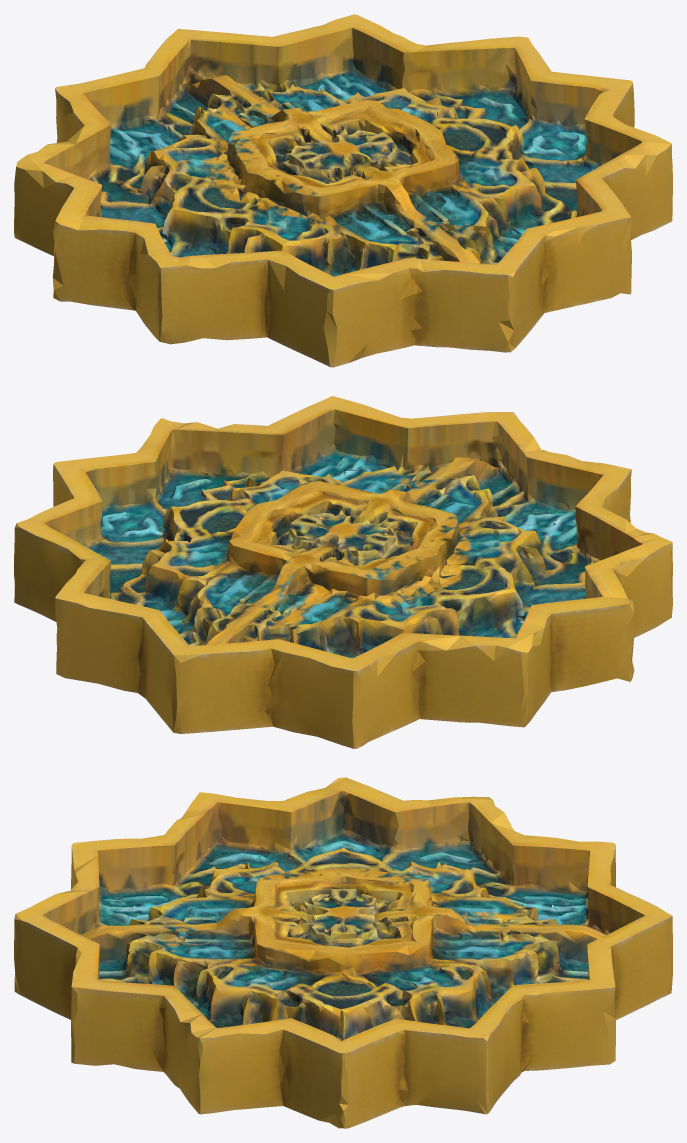
Rendered from islamic_star.glb.
3 views of the same model, one above another, from view 1: azimuth 30°, elevation 25°; view 2: azimuth 150°, elevation 25°; view 3: azimuth 270°, elevation 25° (orthographic).
Visible parts, largest first — view 1: islamic_star; view 2: islamic_star; view 3: islamic_star.
Boxes of the visible parts, bbox=[...] form: islamic_star: bbox=[14, 14, 672, 367]; islamic_star: bbox=[14, 396, 672, 748]; islamic_star: bbox=[14, 777, 672, 1128].
Bounding box in the file's own units: 1.89 × 0.2804 × 1.89.
1 material, 1 textured.
